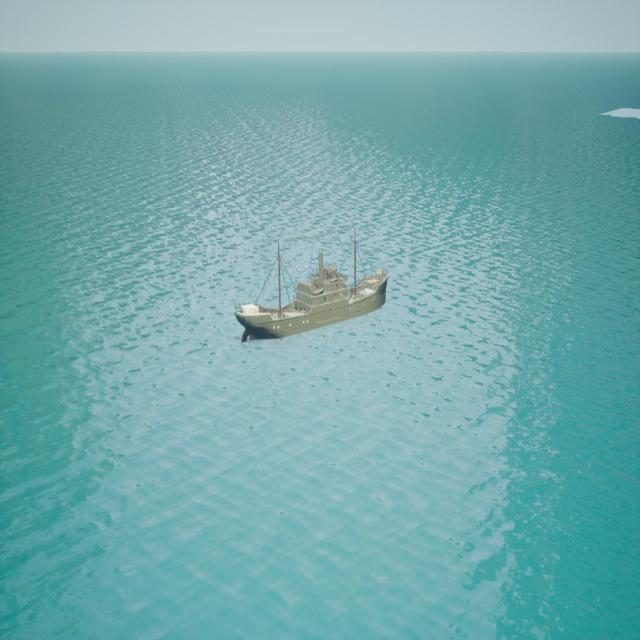fishing ship: (236, 247, 389, 342)
